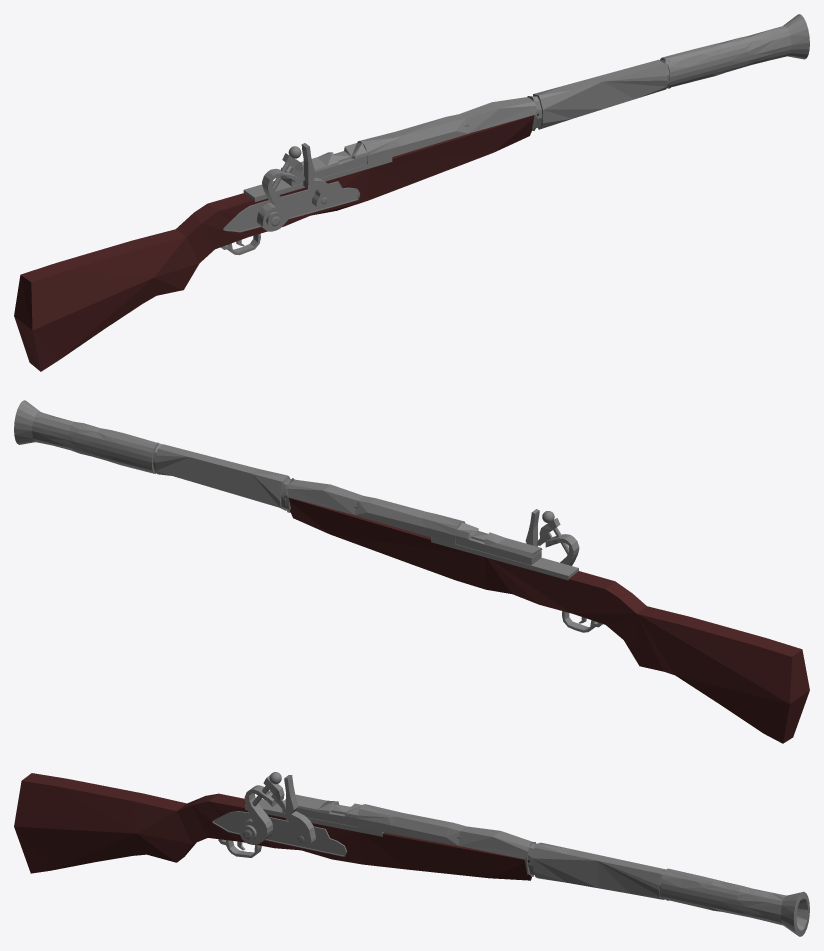
Rendered from Mosquete (1) (1).fbx.
3 renders of one model, top to bottom at view 1: azimuth 30°, elevation 25°; view 2: azimuth 150°, elevation 25°; view 3: azimuth 330°, elevation 25°, orthographic.
Parts seen in each view (by area): view 1: pasted__pasted__polySurface2, pasted__pasted__polySurface3, pasted__pasted__pCylinder7, pasted__pasted__pCube15, pasted__polySurface1, pasted__polySurface5; view 2: pasted__pasted__polySurface2, pasted__pasted__polySurface3, pasted__pasted__pCylinder7; view 3: pasted__pasted__polySurface2, pasted__pasted__polySurface3, pasted__pasted__pCylinder7, pasted__pasted__pCube15, pasted__polySurface1, pasted__polySurface5, pasted__pasted__polySurface4.
Boxes of the visible parts, x1,y1,x2,y2 form: pasted__pasted__polySurface2: (14, 113, 538, 371); pasted__pasted__polySurface3: (243, 57, 670, 201); pasted__pasted__pCylinder7: (660, 14, 809, 87); pasted__pasted__pCube15: (223, 181, 360, 232); pasted__polySurface1: (257, 168, 295, 231); pasted__polySurface5: (301, 143, 333, 208); pasted__pasted__polySurface2: (284, 496, 809, 743); pasted__pasted__polySurface3: (153, 442, 578, 580); pasted__pasted__pCylinder7: (14, 400, 160, 473); pasted__pasted__polySurface2: (14, 773, 531, 880); pasted__pasted__polySurface3: (245, 794, 668, 900); pasted__pasted__pCylinder7: (661, 868, 809, 936); pasted__pasted__pCube15: (212, 811, 346, 856); pasted__polySurface1: (239, 785, 276, 844); pasted__polySurface5: (284, 775, 315, 845); pasted__pasted__polySurface4: (218, 839, 261, 857).
Bounding box in the file's own units: 21.37 × 4.32 × 1.26.
